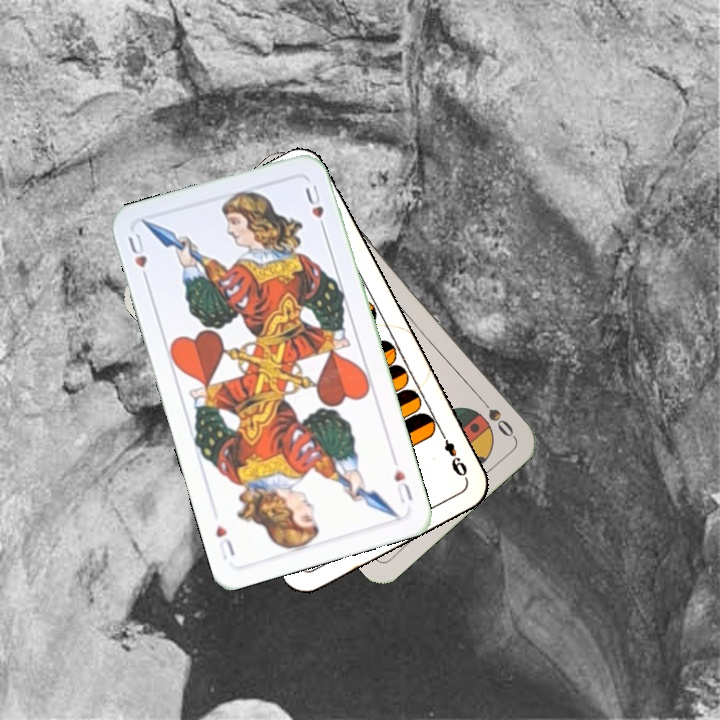E9: (436, 427, 470, 482)
HU: (124, 229, 152, 286), (390, 465, 416, 506)
SO: (473, 391, 517, 440)
